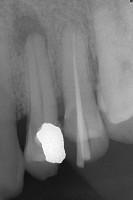Furcation Involvement: (12, 15, 48, 55)
